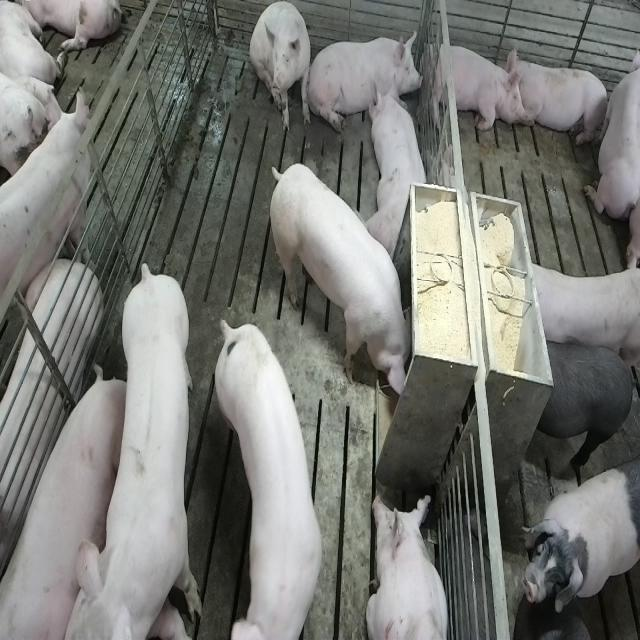Feeding: (265, 162, 411, 402)
Lateral_lying: (0, 369, 122, 640)
Sitting: (250, 2, 312, 134)
Standing: (79, 256, 205, 636), (217, 318, 329, 638), (0, 90, 91, 334), (520, 466, 638, 616), (528, 338, 636, 482), (523, 259, 637, 372)
Sternal_lying: (366, 491, 449, 640), (369, 77, 431, 263), (314, 29, 422, 132), (509, 51, 611, 149), (584, 35, 637, 223), (426, 36, 522, 134)
